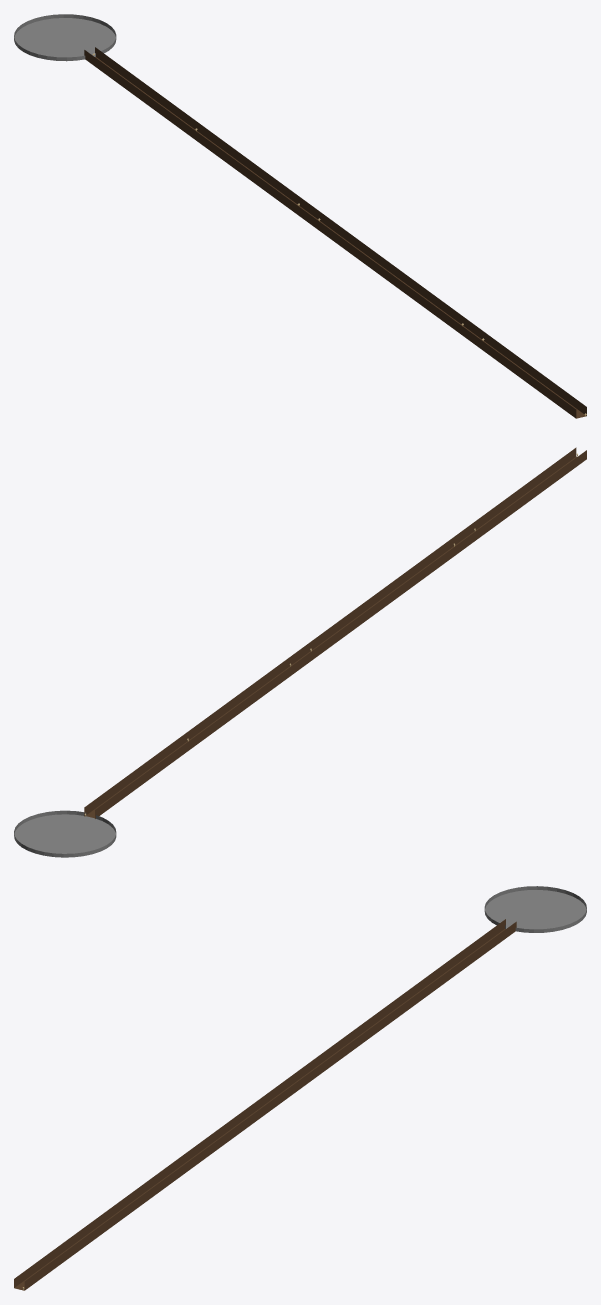
Rendered from Forest_Test.fbx.
3 renders of one model, top to bottom at view 1: azimuth 30°, elevation 25°; view 2: azimuth 150°, elevation 25°; view 3: azimuth 330°, elevation 25°, orthographic.
Parts seen in each view (by area): view 1: Ground, Ground2; view 2: Ground, Ground2; view 3: Ground, Ground2.
Boxes of the visible parts, x1=… form: Ground: x1=84, y1=47, x2=586, y2=418; Ground2: x1=14, y1=14, x2=116, y2=61; Ground: x1=84, y1=447, x2=586, y2=818; Ground2: x1=14, y1=810, x2=116, y2=857; Ground: x1=14, y1=919, x2=516, y2=1290; Ground2: x1=484, y1=886, x2=586, y2=932.
Size of the model in its own units: 4976 by 500 by 52931.
Materials: 6 (4 with a texture image).
